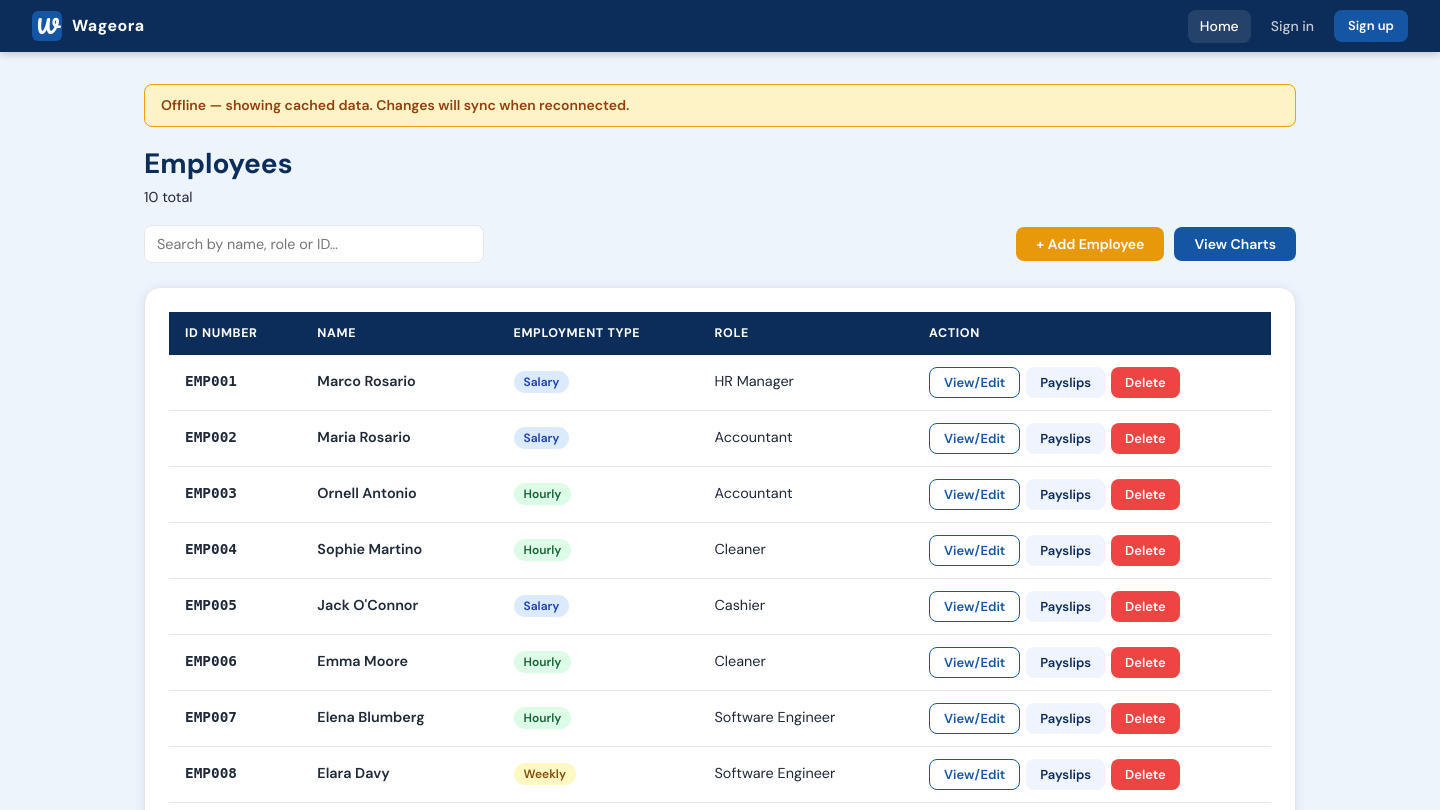
EmployeesPage › opens add modal when button is clicked
Click the button "+ Add Employee": (1090, 244) [1016,227,1164,261]
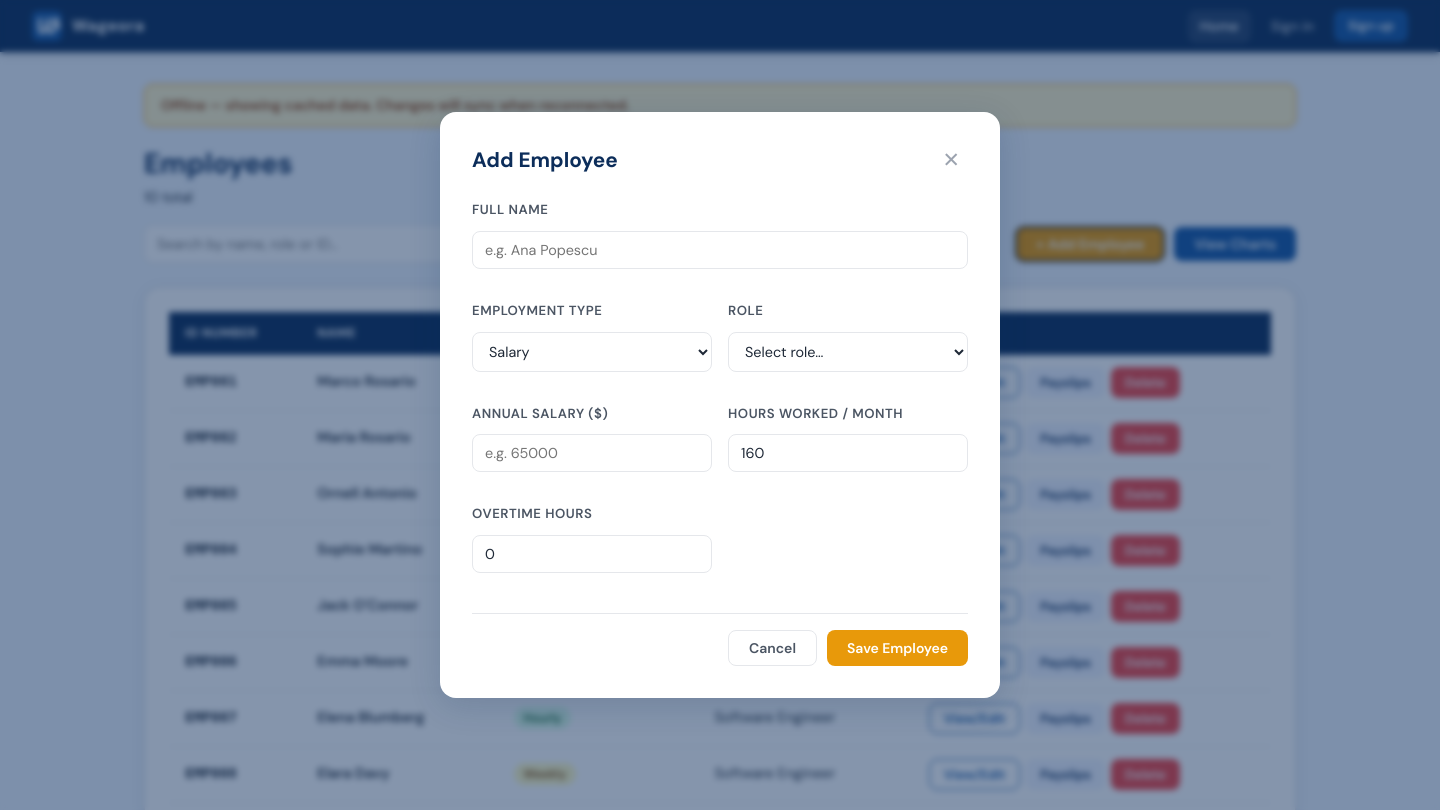
Expected: the heading "Add Employee" is shown, [472,144,618,176]
